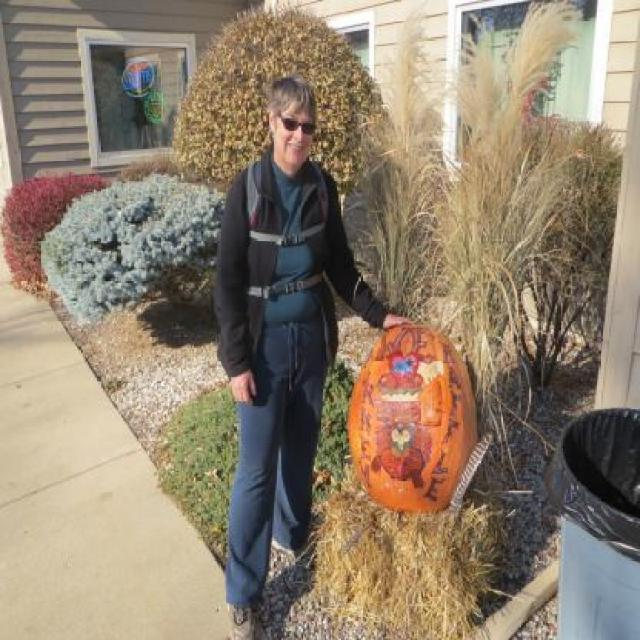Pumpkin: (343, 334, 485, 514)
